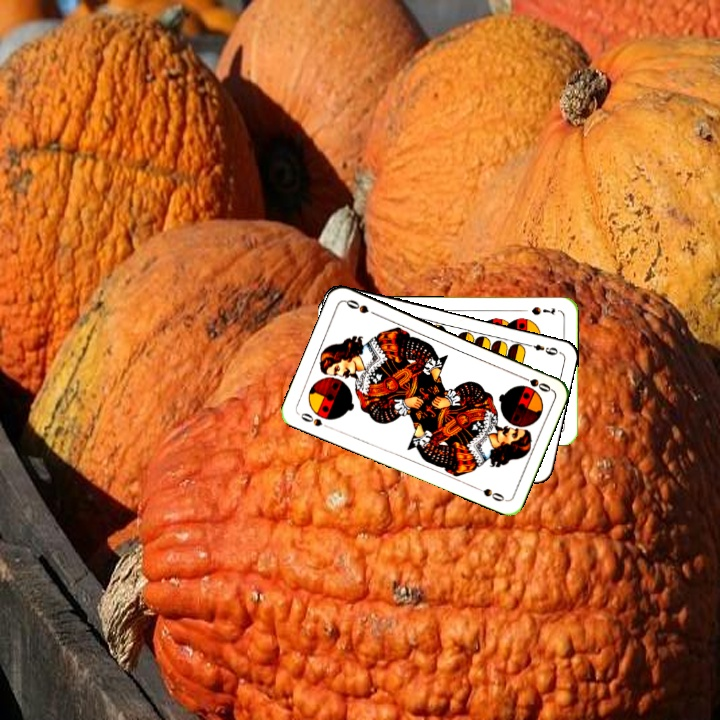E9: (522, 340, 562, 358)
S7: (527, 303, 558, 317)
SO: (515, 371, 553, 395), (295, 409, 325, 429)
